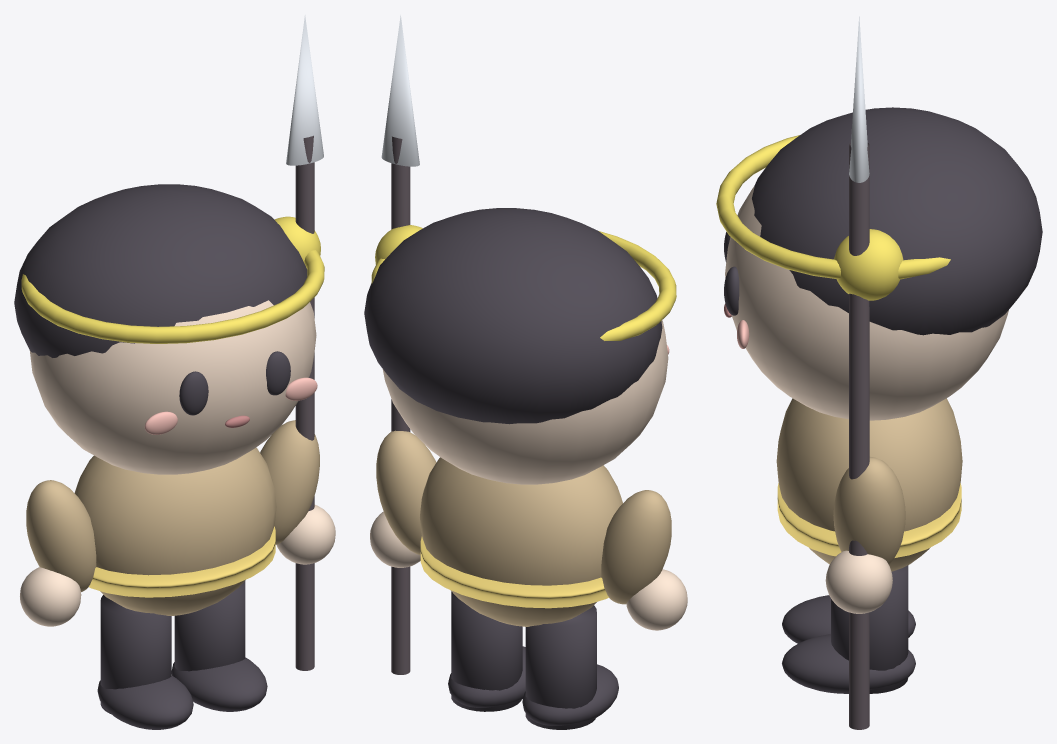
The model's file is yt_soldier.fbx.
3 views of the same model, side by side, from view 1: azimuth 30°, elevation 25°; view 2: azimuth 150°, elevation 25°; view 3: azimuth 270°, elevation 25° (orthographic). The views are drawn at different scales.
Visible parts, largest first — view 1: hair, head_mesh, body, band, leg, arm_mesh.001, leg.001, wp_shaft, arm_mesh, belt, shoe, shoe.001 (+8 smaller); view 2: hair, body, head_mesh, leg, arm_mesh.001, leg.001, arm_mesh, belt, wp_shaft, wp_tip, band, hand_mesh.001 (+4 smaller); view 3: hair, head_mesh, body, wp_shaft, arm_mesh, band, leg.001, shoe.001, knot, hand_mesh, belt, shoe (+2 smaller).
Boxes of the visible parts, <box> form: hair: <box>14,184,307,357</box>; head_mesh: <box>29,300,316,474</box>; body: <box>74,447,276,615</box>; band: <box>21,250,324,343</box>; leg: <box>100,595,171,713</box>; arm_mesh.001: <box>26,480,96,591</box>; leg.001: <box>174,581,245,671</box>; wp_shaft: <box>295,135,314,670</box>; arm_mesh: <box>260,420,319,544</box>; belt: <box>88,526,275,597</box>; shoe: <box>97,675,193,729</box>; shoe.001: <box>171,657,267,711</box>; hair: <box>364,208,662,424</box>; body: <box>420,457,622,626</box>; head_mesh: <box>382,320,668,484</box>; leg: <box>525,605,596,729</box>; arm_mesh.001: <box>601,490,671,604</box>; leg.001: <box>451,591,522,711</box>; arm_mesh: <box>376,430,436,554</box>; belt: <box>420,536,608,608</box>; wp_shaft: <box>391,136,410,674</box>; wp_tip: <box>381,15,419,166</box>; band: <box>371,231,676,340</box>; hand_mesh.001: <box>626,569,687,630</box>; hair: <box>752,107,1042,335</box>; head_mesh: <box>725,186,1008,420</box>; body: <box>776,398,962,571</box>; wp_shaft: <box>849,143,869,729</box>; arm_mesh: <box>833,457,905,564</box>; band: <box>716,135,950,279</box>; leg.001: <box>831,565,908,693</box>; shoe.001: <box>782,634,915,693</box>; knot: <box>834,229,903,300</box>; hand_mesh: <box>825,550,892,613</box>; belt: <box>777,483,961,557</box>; shoe: <box>782,595,915,643</box>.
Bounding box in the file's own units: 0.75 × 1.54 × 0.6318.
